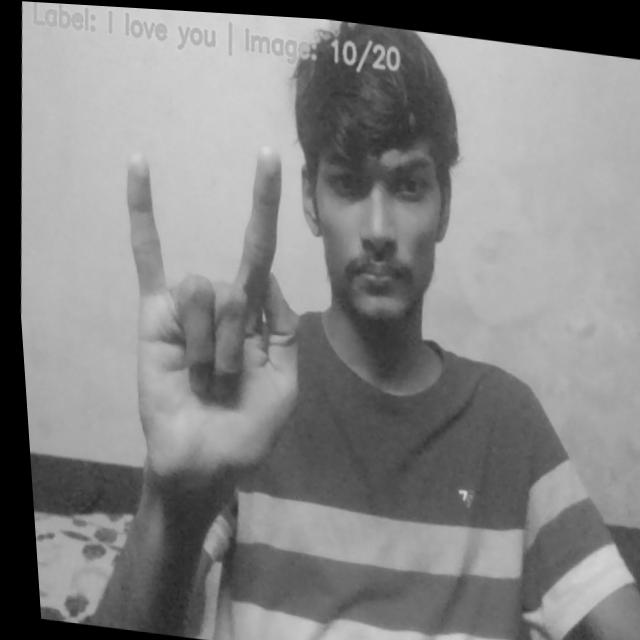I love you: (100, 123, 316, 486)
